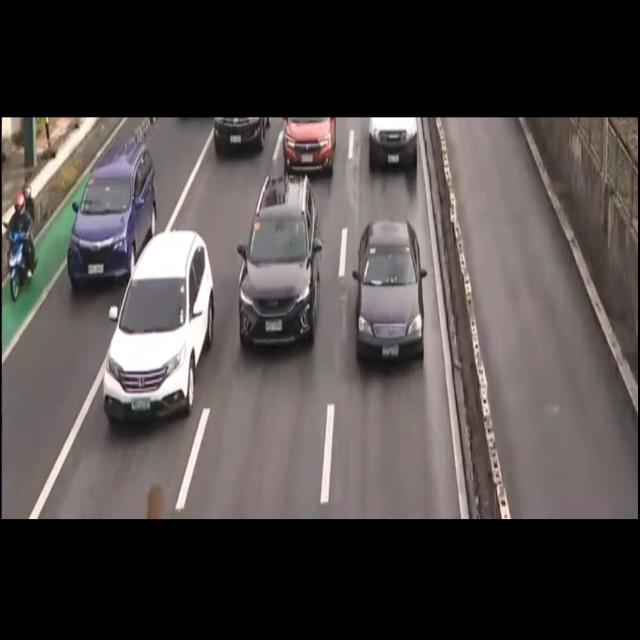Motorcycle: (8, 188, 42, 299)
SUV: (104, 236, 211, 431), (63, 139, 159, 289), (242, 173, 318, 347)
Sedan: (360, 213, 423, 360)
